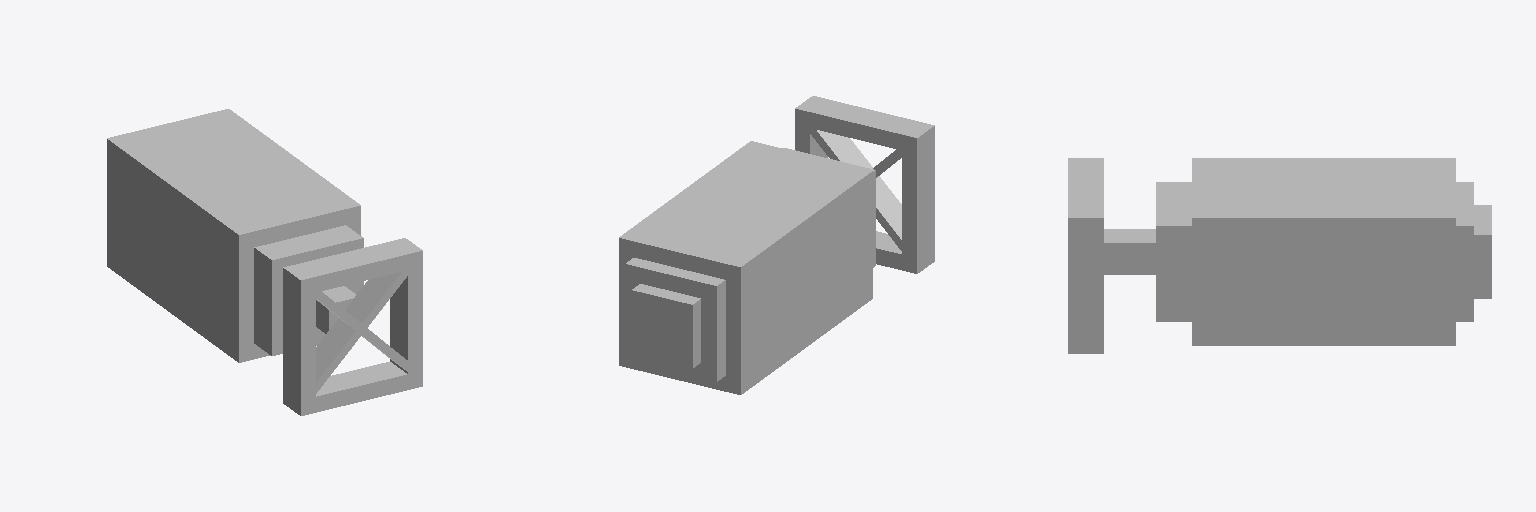
Rendered from nuclear_bomb.obj.
3 views of the same model, side by side, from view 1: azimuth 30°, elevation 25°; view 2: azimuth 150°, elevation 25°; view 3: azimuth 270°, elevation 25° (orthographic).
Parts seen in each view (by area): view 1: cube; view 2: cube; view 3: cube.
Boxes of the visible parts, x1=… form: cube: x1=107, y1=109, x2=422, y2=415; cube: x1=619, y1=96, x2=934, y2=394; cube: x1=1068, y1=158, x2=1491, y2=353.
Size of the model in its own units: 0.5 by 0.5312 by 1.5.